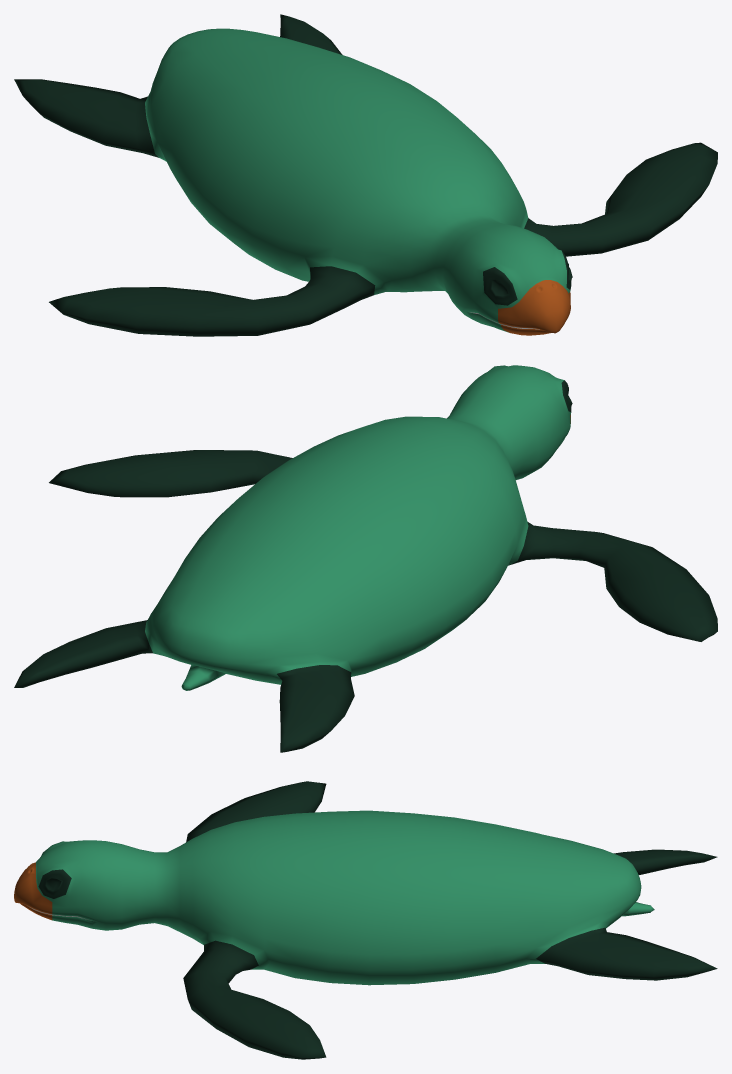
File: turtle_turtle.obj
3 views of the same model, one above another, from view 1: azimuth 30°, elevation 25°; view 2: azimuth 150°, elevation 25°; view 3: azimuth 270°, elevation 25° (orthographic). The views are drawn at different scales.
Size of the model in its own units: 0.9992 by 0.2234 by 1.08.
